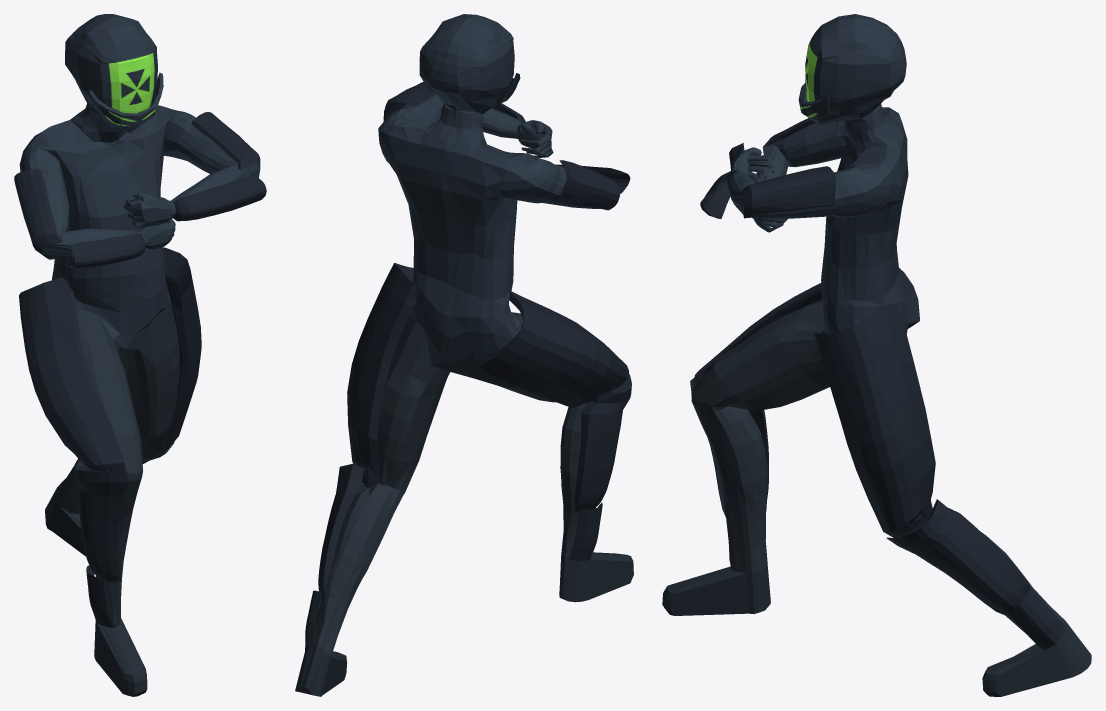
Rendered from Bastion_WL_000009.obj.
The picture shows the model from 3 angles, left to right: view 1: azimuth 30°, elevation 25°; view 2: azimuth 150°, elevation 25°; view 3: azimuth 270°, elevation 25°; orthographic projection. The views are drawn at different scales.
Visible parts, largest first — view 1: Cube.002; view 2: Cube.002; view 3: Cube.002.
Part boxes in pixels (x1,y1,x2,y2): Cube.002: (14,14,266,696); Cube.002: (295,14,633,696); Cube.002: (662,14,1091,696).
Bounding box in the file's own units: 1.3 × 3.55 × 2.15.
